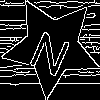N: (26, 21, 77, 78)
